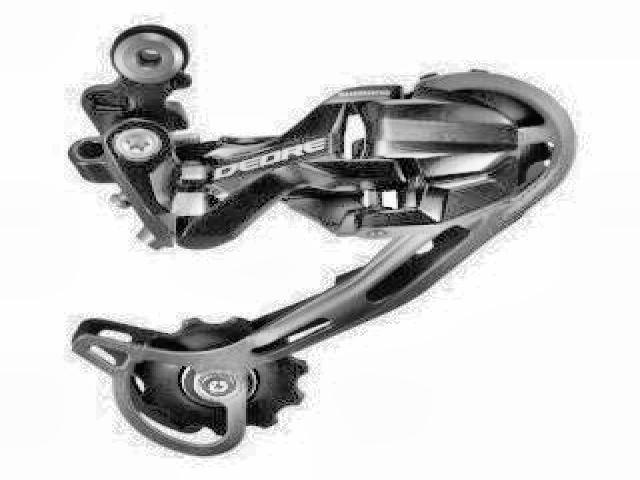rear_derailleur: (68, 16, 580, 458)
